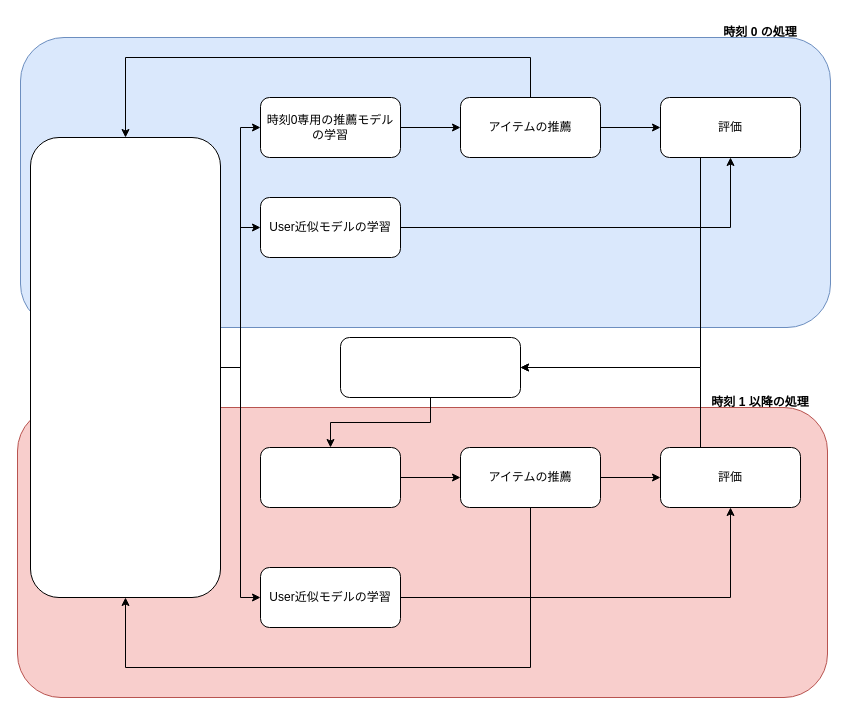
The diagram is 848 pixels wide and 715 high, and some of its shapes have lost their labels. Each missing label, with the centre of its shape:
"Buffer (State, NextState, Action, Reward, Prob)" belongs at [430,367].
"Ratingデータ (userID, MovieID, rating, timestamp)" belongs at [125,367].
"時刻 1 以降の推薦モデルの学習" belongs at [330,477].
